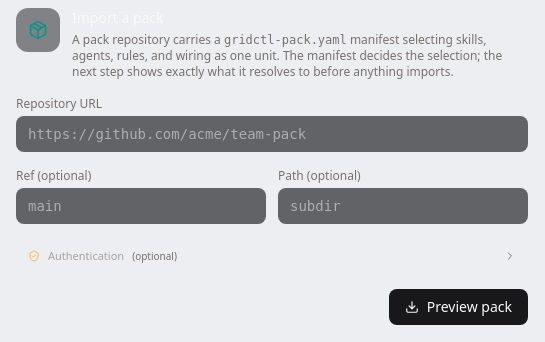
it: PackImportWizard — null list fields from the API › renders the review step when a pack ships no agents or rules
Type "https://github.com/acme/skills-only" into the field named "pack repository url".
click(272, 134); type("https://github.com/acme/skills-only")  # box top-left (16, 116), bottom-right (528, 152)
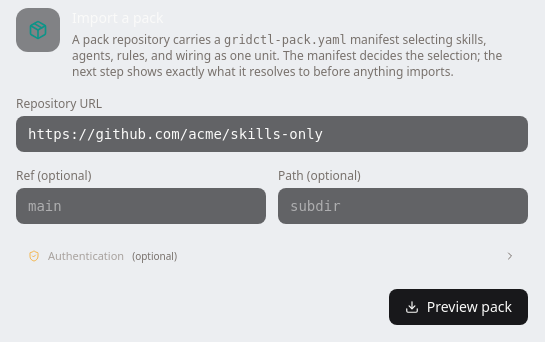
Click the button "Preview pack".
click(458, 306)  # box top-left (389, 288), bottom-right (528, 324)
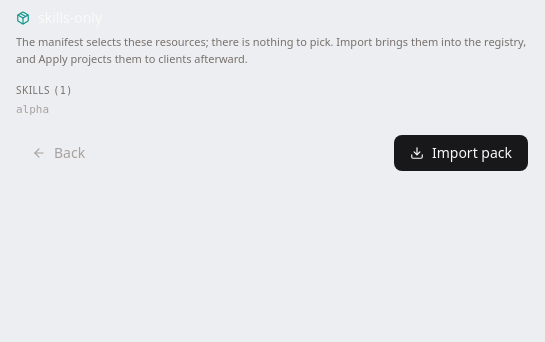
Expected: the text "skills-only" is shown, top-left (16, 8), bottom-right (102, 27)
Expected: the text "alpha" is shown, top-left (16, 103), bottom-right (49, 116)
Expected: the button "Import pack" is shown, top-left (394, 134), bottom-right (528, 170)
